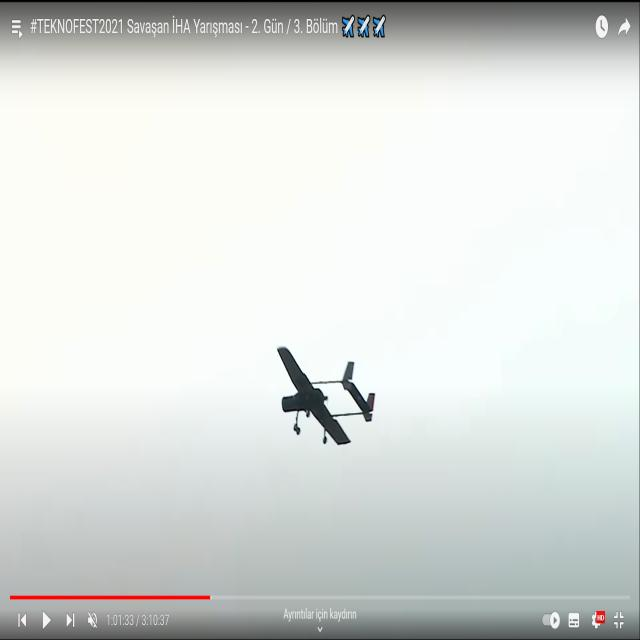iha: (303, 379, 337, 415)
